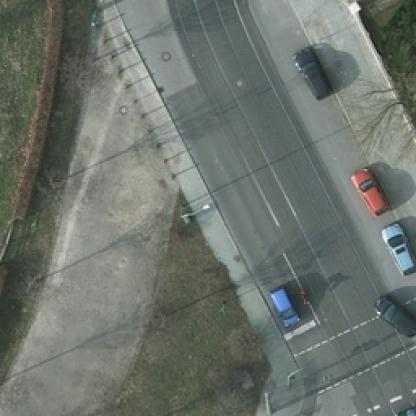car: (290, 46, 332, 98), (370, 296, 414, 338), (348, 168, 388, 212), (378, 223, 412, 274), (265, 284, 301, 325)
